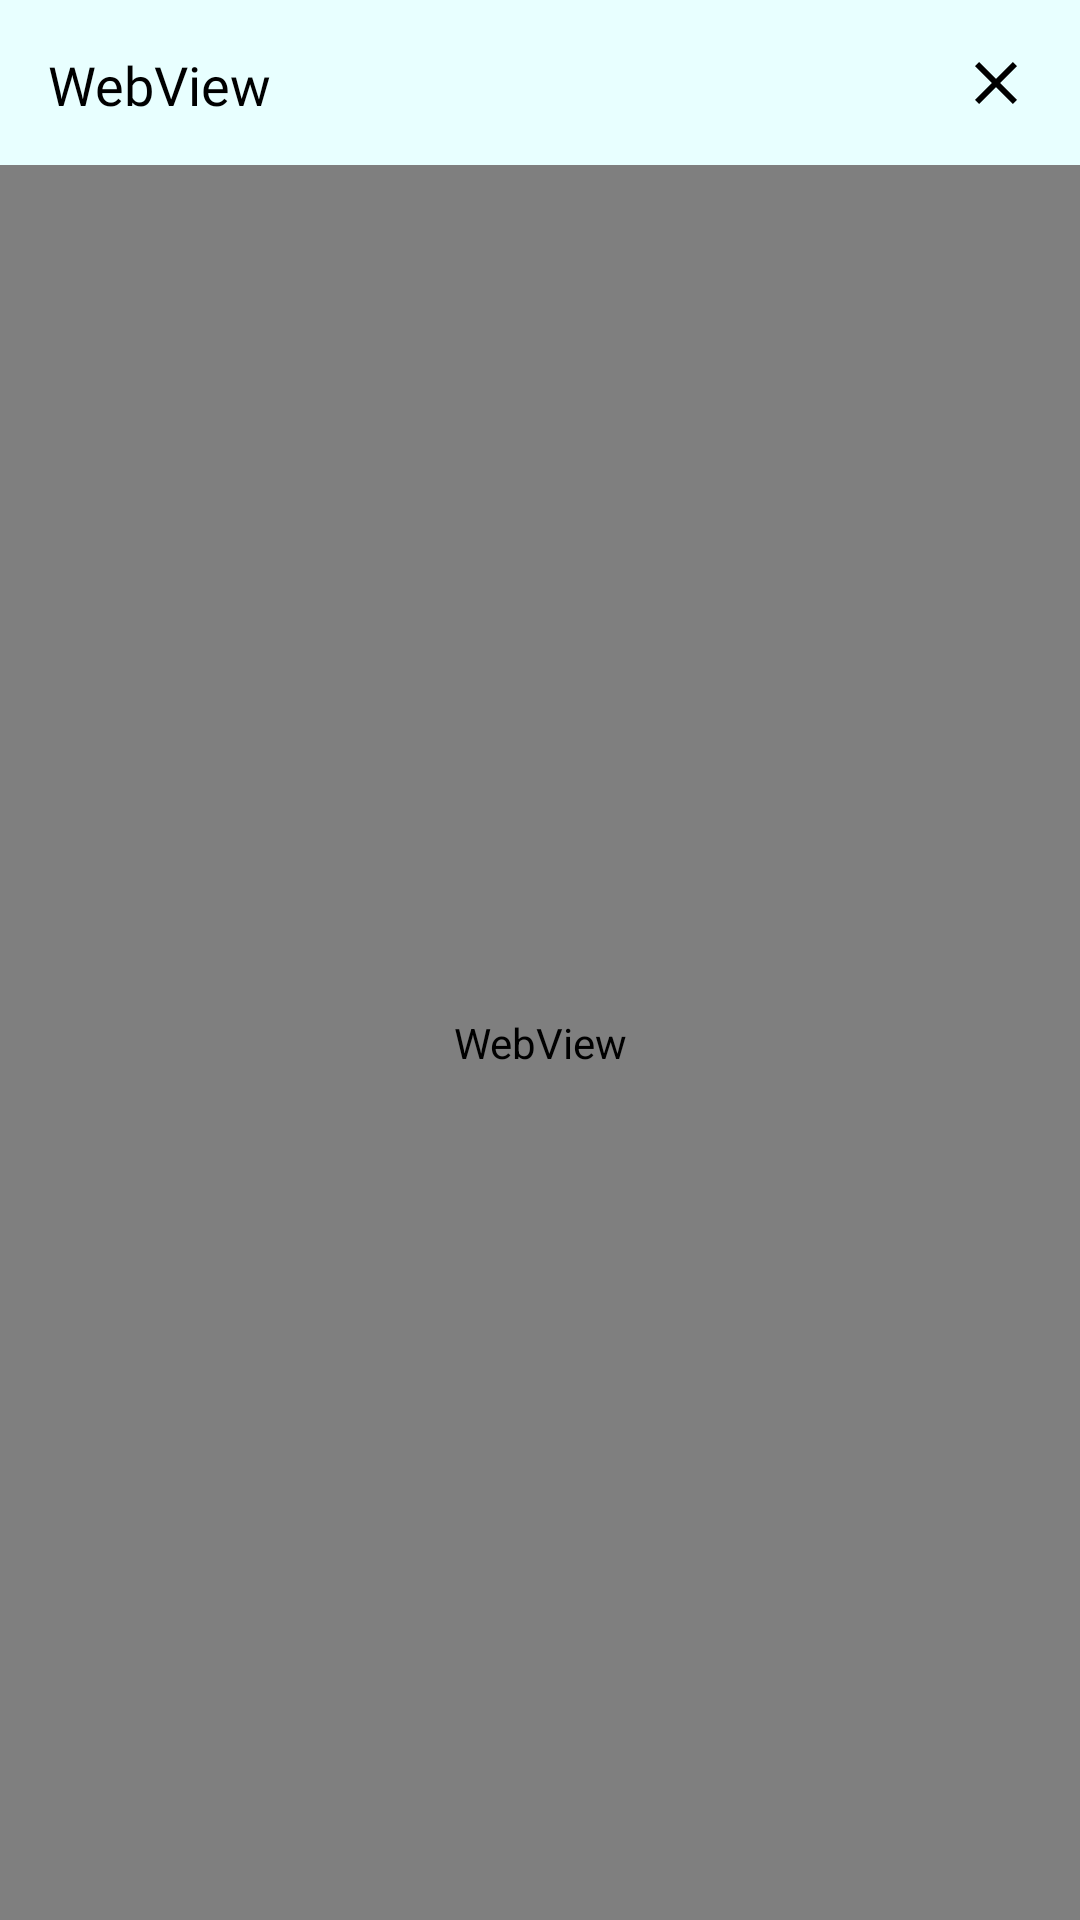

Screen size 1080w x 1920h. Icon name, then its box in pixels as (x1, y1, x2, y2):
close: (975, 62, 1017, 104)
